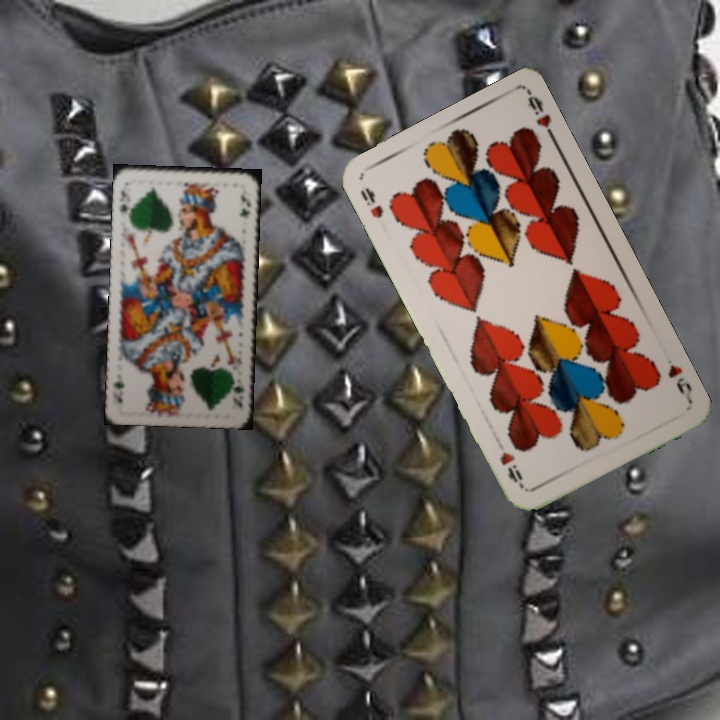GK: (115, 181, 135, 220), (229, 372, 247, 410)
H9: (663, 360, 695, 403), (356, 183, 386, 221)
